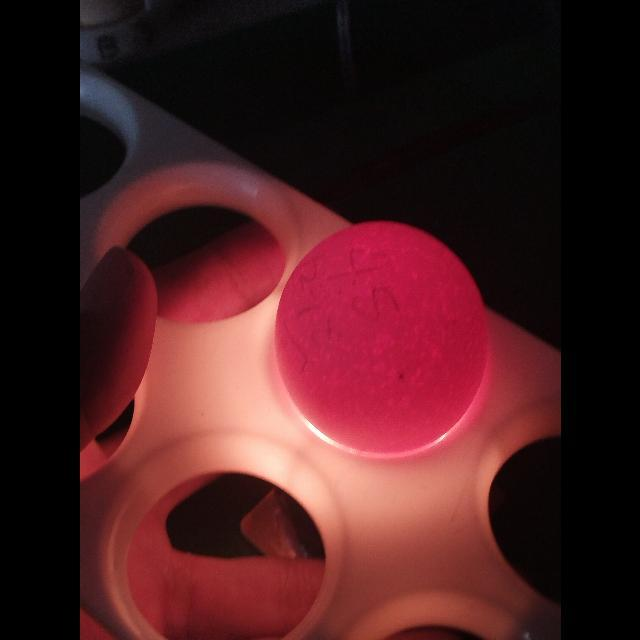Infertile: (270, 217, 494, 458)
